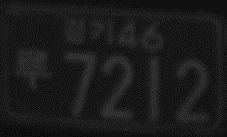1: (138, 56, 173, 122)
2: (99, 52, 136, 120), (174, 58, 211, 123)
4: (116, 18, 139, 52)
6: (141, 18, 165, 54)
7: (61, 50, 97, 119)
경기_O: (62, 15, 115, 46)
루: (13, 47, 52, 92)
